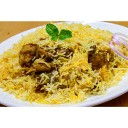briyani: (1, 33, 120, 95)
